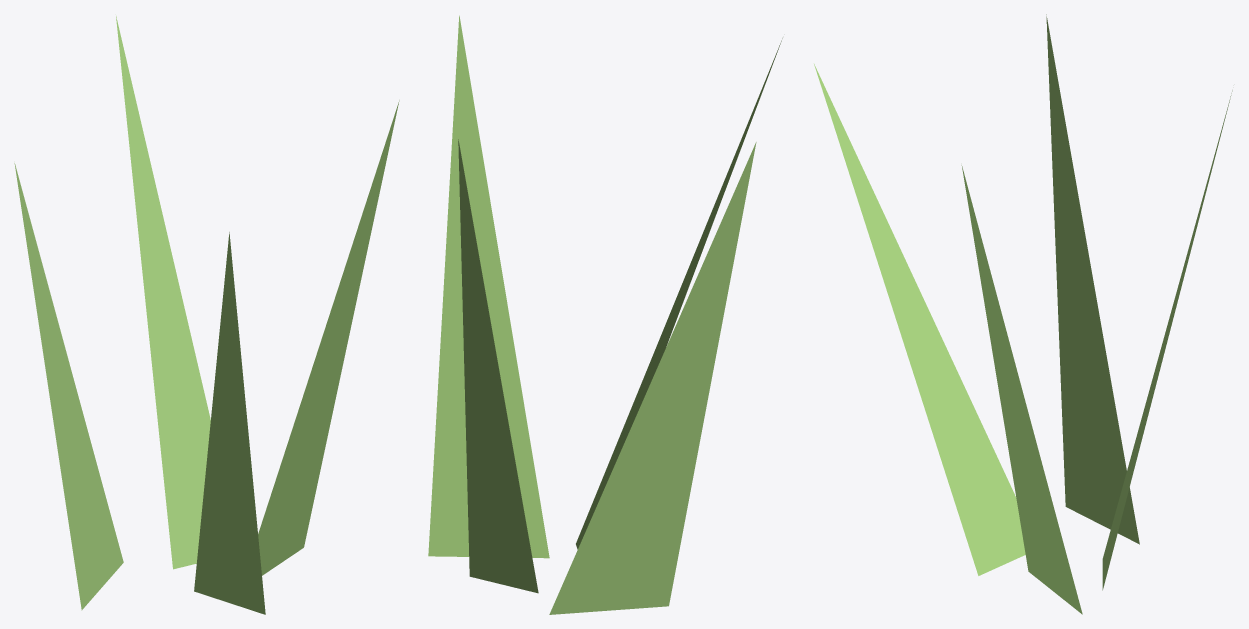
Rendered from Grass_c_OneS_03.fbx.
3 renders of one model, left to right at view 1: azimuth 30°, elevation 25°; view 2: azimuth 150°, elevation 25°; view 3: azimuth 270°, elevation 25°, orthographic. The views are drawn at different scales.
Parts seen in each view (by area): view 1: Grass_c_OneS_03; view 2: Grass_c_OneS_03; view 3: Grass_c_OneS_03.
Boxes of the visible parts, x1,y1,x2,y2 form: Grass_c_OneS_03: (14, 16, 399, 614); Grass_c_OneS_03: (428, 15, 782, 614); Grass_c_OneS_03: (814, 14, 1232, 614).
Size of the model in its own units: 36.1 by 51.28 by 40.27.
